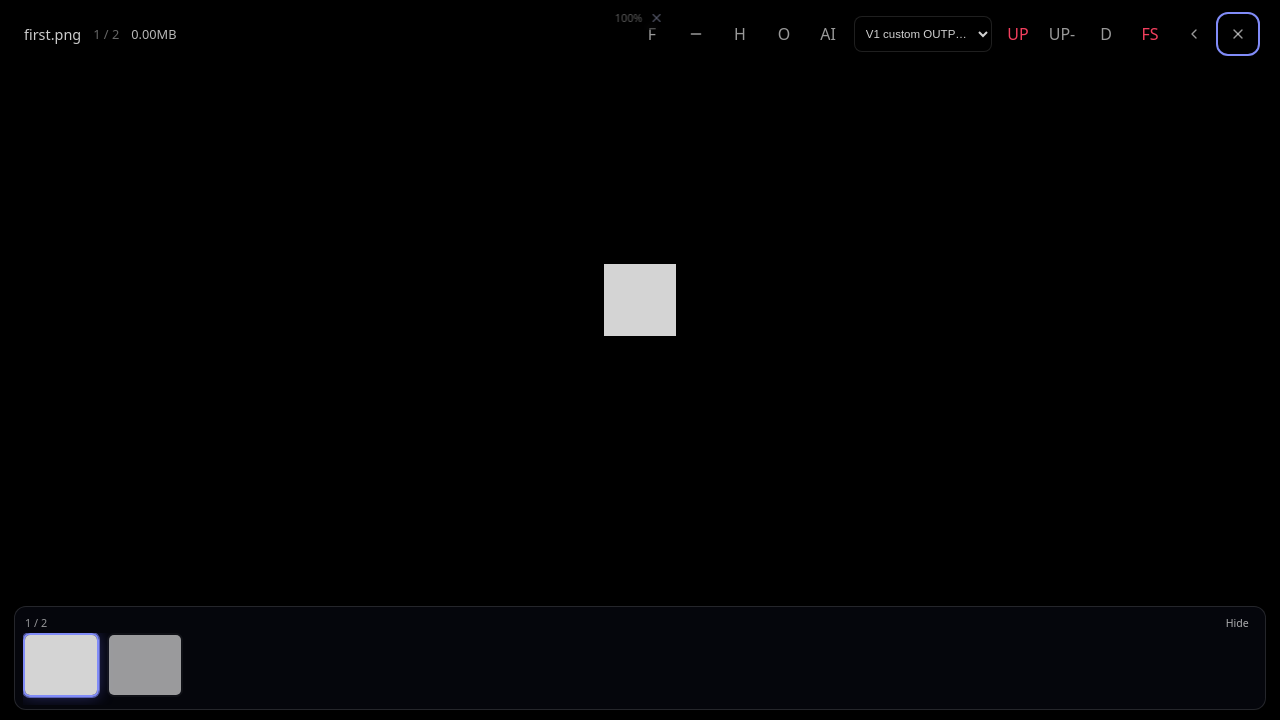
Test: ImageModal sparse navigation lock › toggles a valid Enhanced output from the context menu
The image size is (1280, 720).
expect the button with aria-label "Toggle original or enhanced image" reads "UP": met, box x1=1000 y1=16 x2=1036 y2=52
Right-click the element with test id "modal-image-area": (640, 300) x1=0 y1=0 x2=1279 y2=600
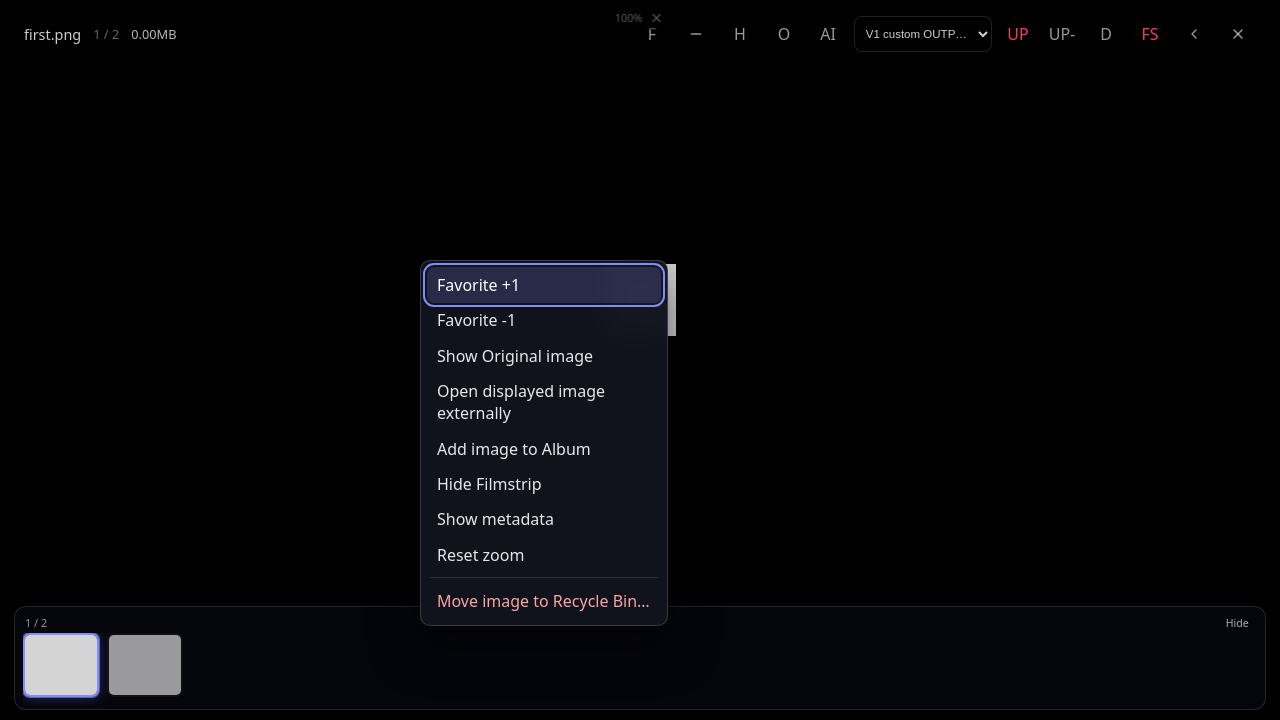
Click the menu item "Show Original image": (544, 356) x1=427 y1=338 x2=661 y2=373
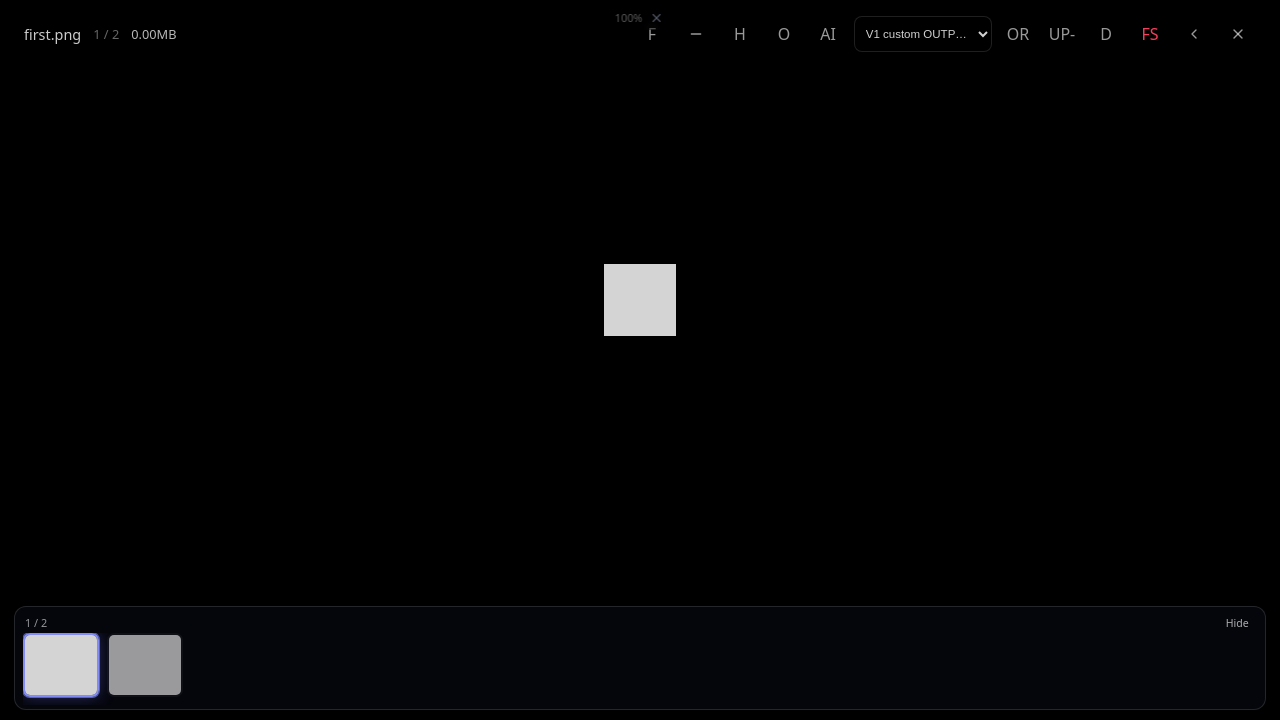
expect the button with aria-label "Toggle original or enhanced image" reads "OR": met, box x1=1000 y1=16 x2=1036 y2=52
Right-click the element with test id "modal-image-area": (640, 300) x1=0 y1=0 x2=1279 y2=600
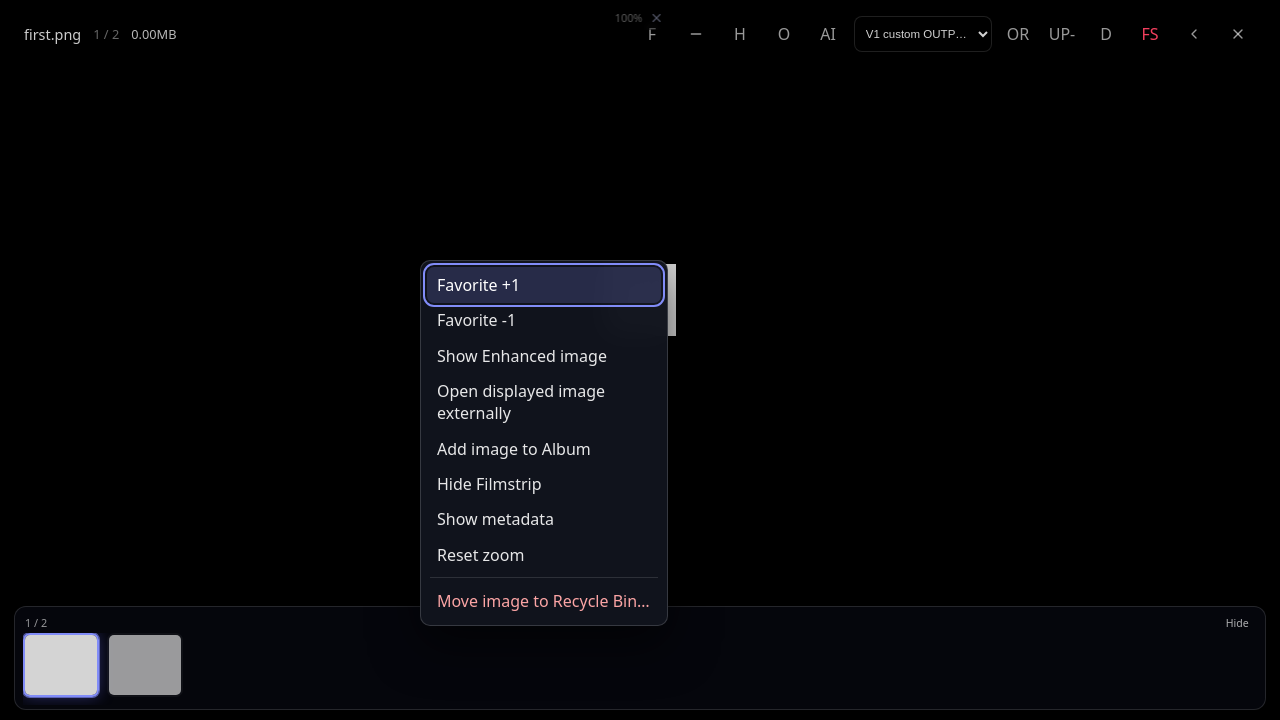
Click the menu item "Show Enhanced image": (544, 356) x1=427 y1=338 x2=661 y2=373
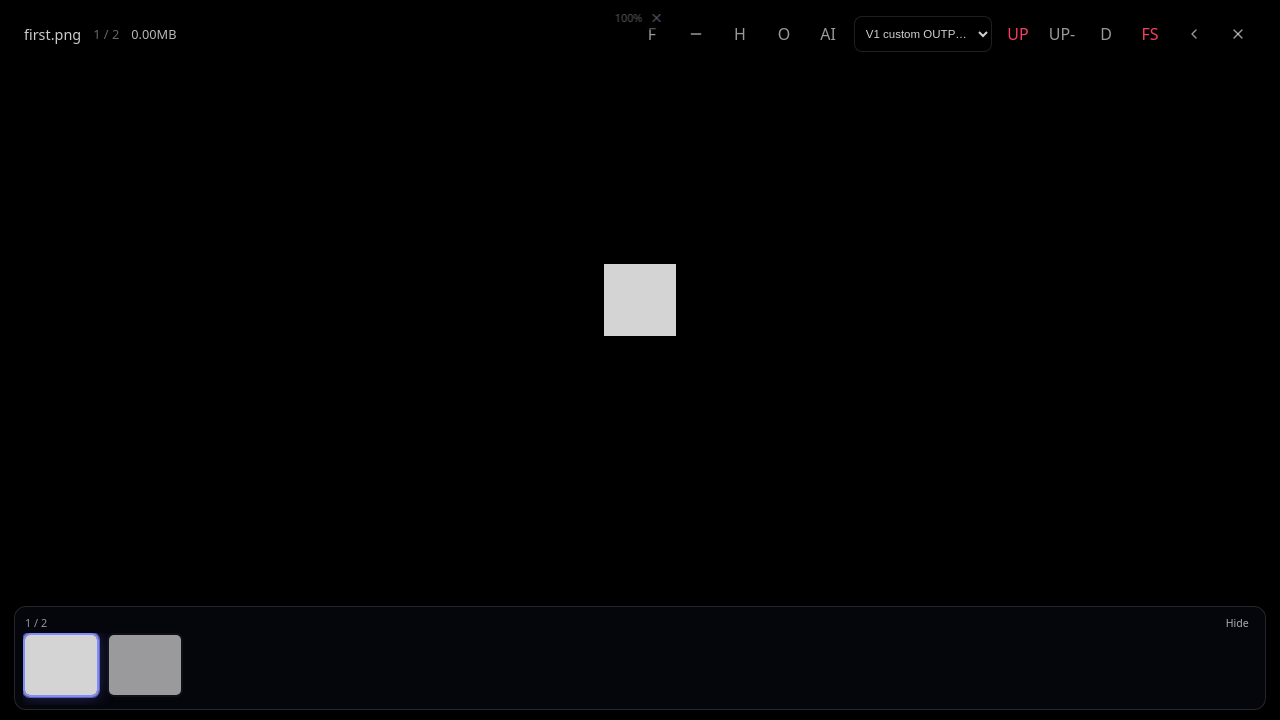
expect the button with aria-label "Toggle original or enhanced image" reads "UP": met, box x1=1000 y1=16 x2=1036 y2=52
